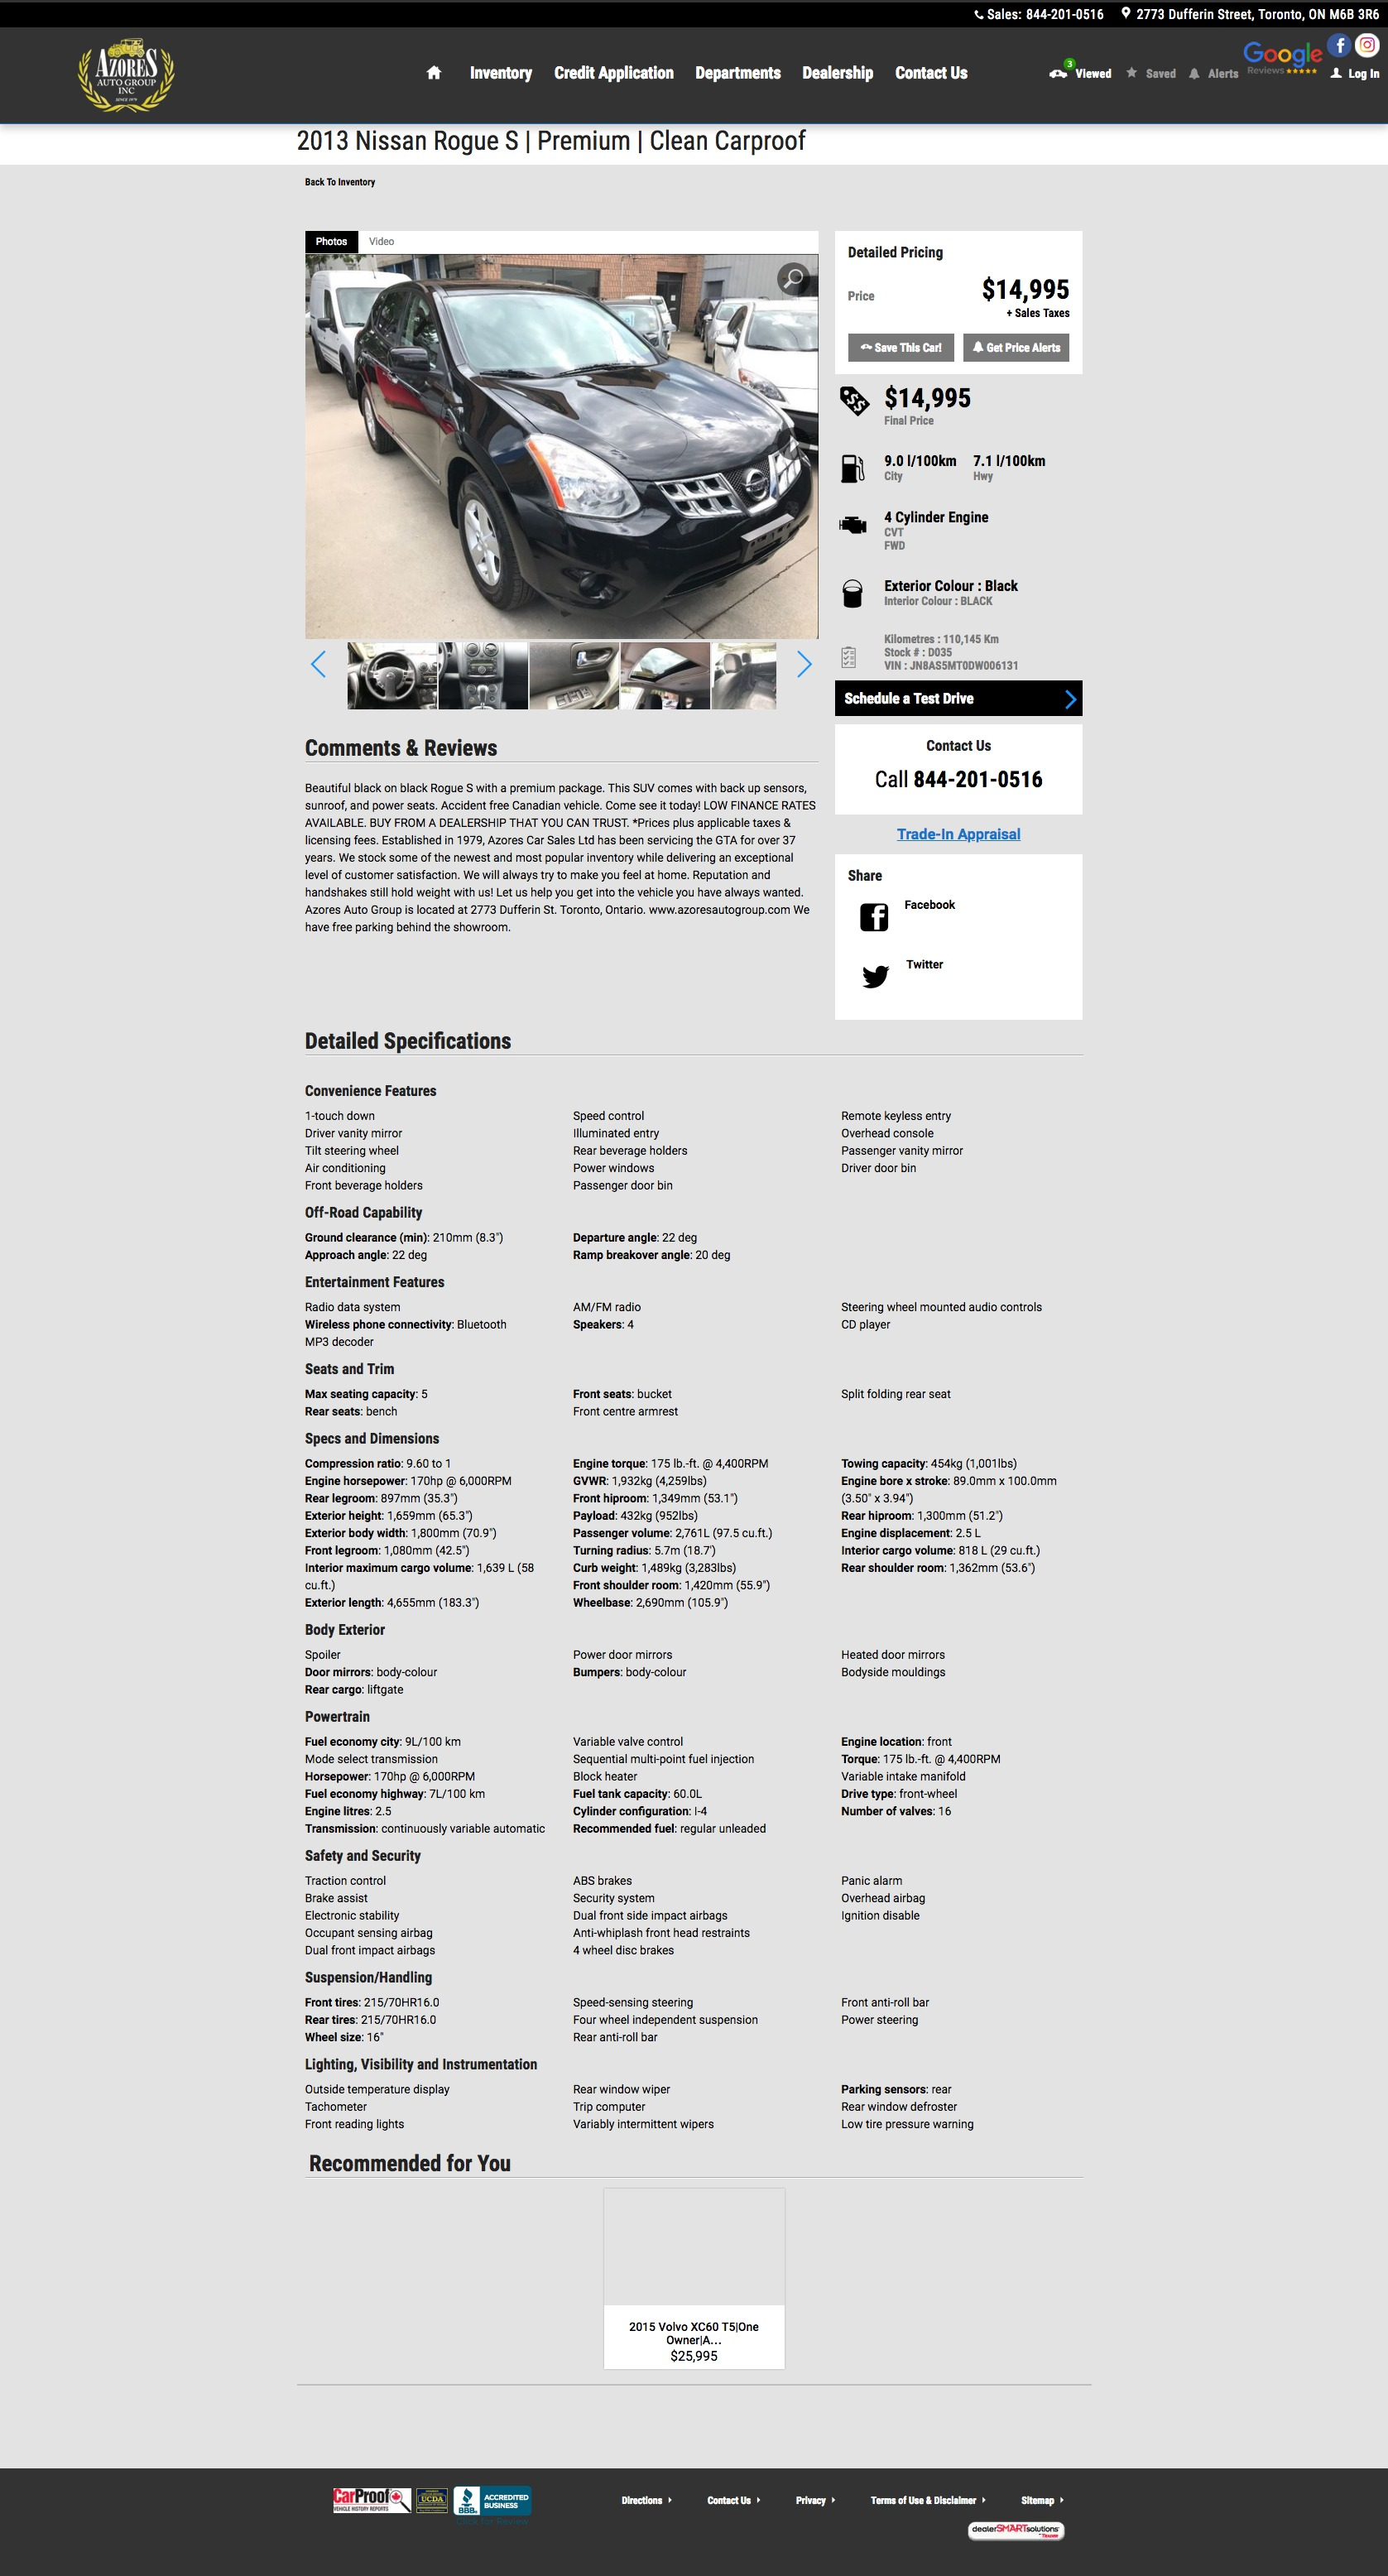car: (797, 651, 812, 680)
